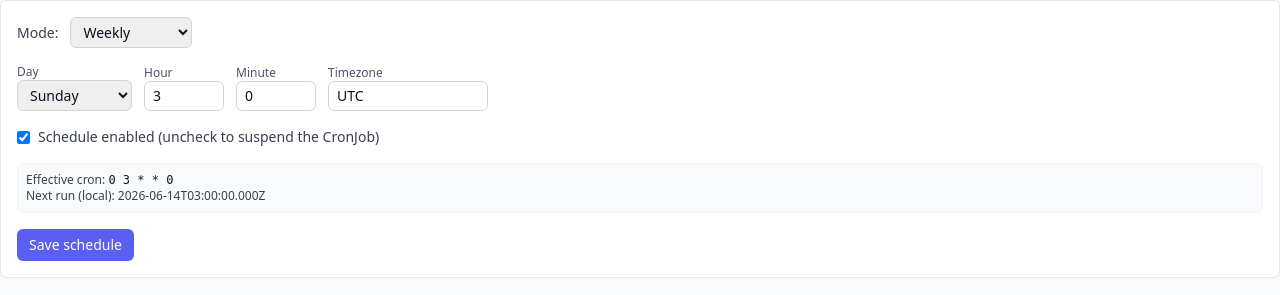
Scenario: ScheduleEditor › weekly pickers update the effective cron string
Select "Monday" in the dropdown with test id "schedule-day" at (74, 96), box [17,80,132,111]
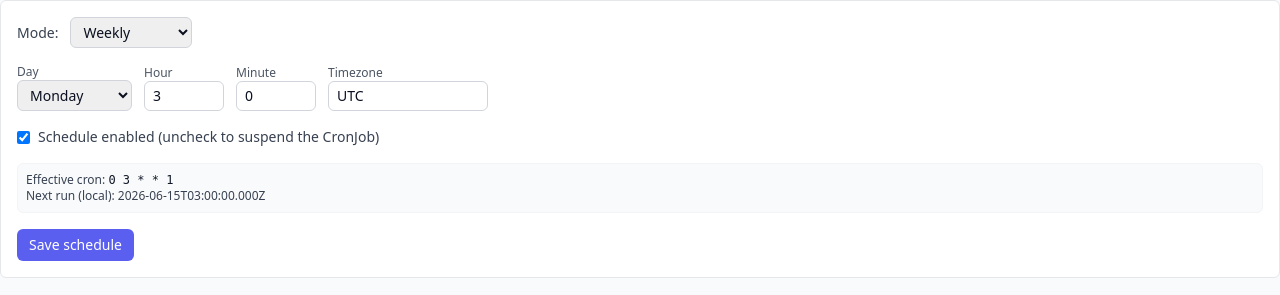
Replace the text in the number field with test id "schedule-hour" with "6" at (184, 96), box [144,81,224,111]
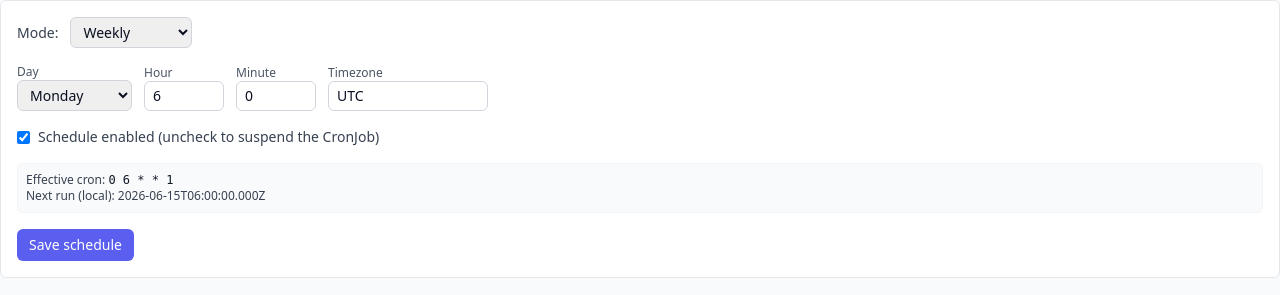
Replace the text in the number field with test id "schedule-minute" with "30" at (276, 96), box [236,81,316,111]
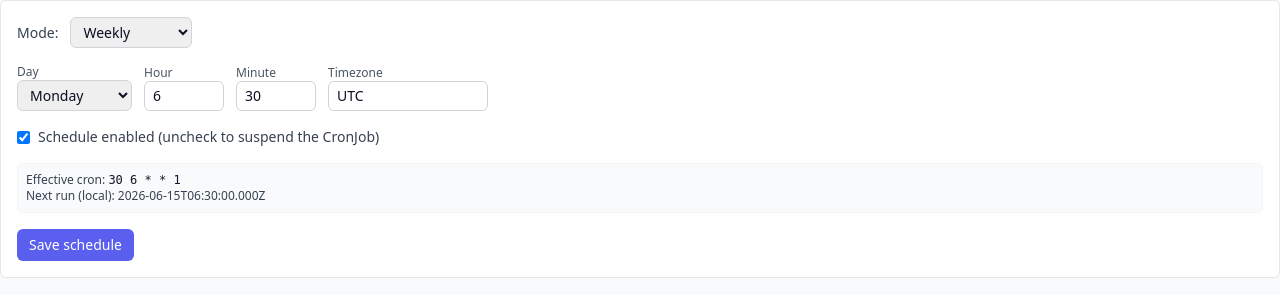
expect the text with test id "schedule-effective" reads "30 6 * * 1": met, box [108,173,181,187]
